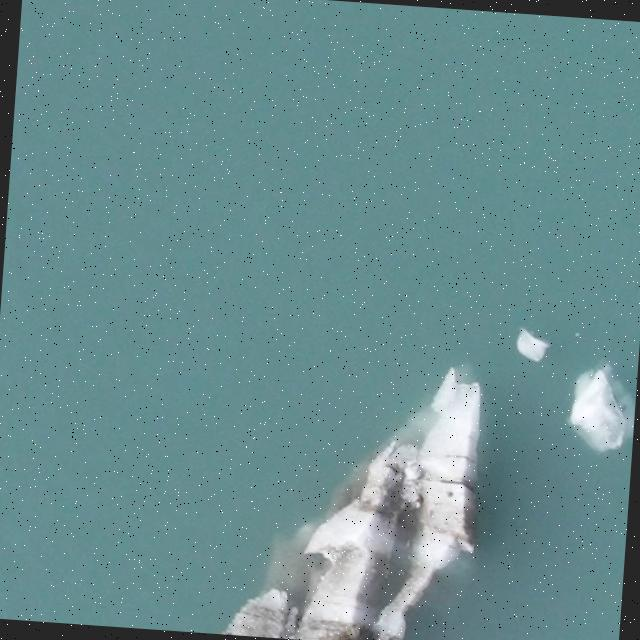seal: (329, 625, 363, 640)
